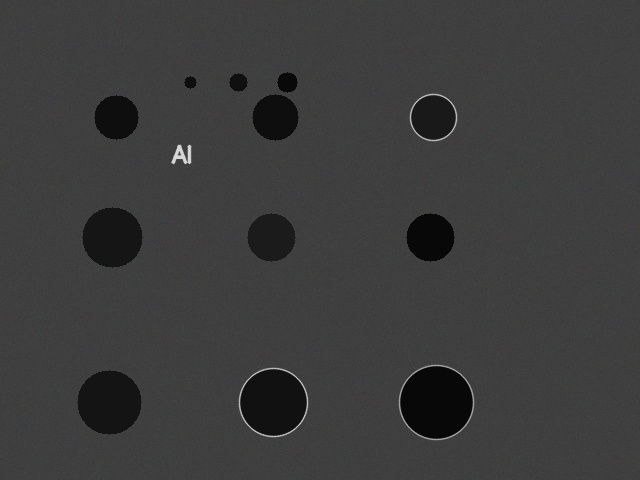hole: (399, 365, 473, 439), (239, 368, 307, 436), (77, 370, 141, 434), (82, 207, 142, 267), (247, 213, 295, 261), (406, 213, 454, 261), (252, 94, 298, 140), (410, 94, 456, 140), (94, 95, 138, 139), (277, 72, 297, 92), (229, 73, 247, 91), (184, 76, 196, 88)
